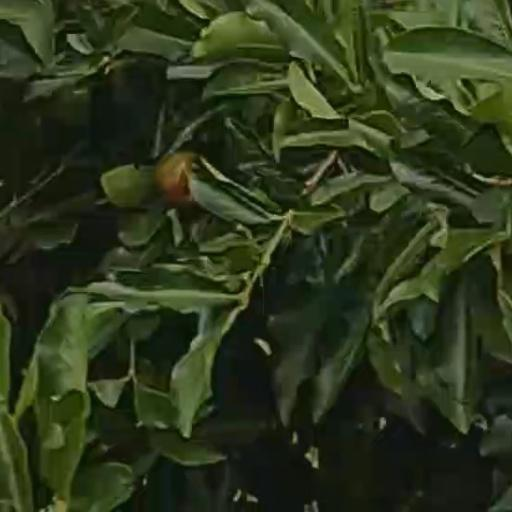acerola_vermelha: (157, 152, 196, 201)
